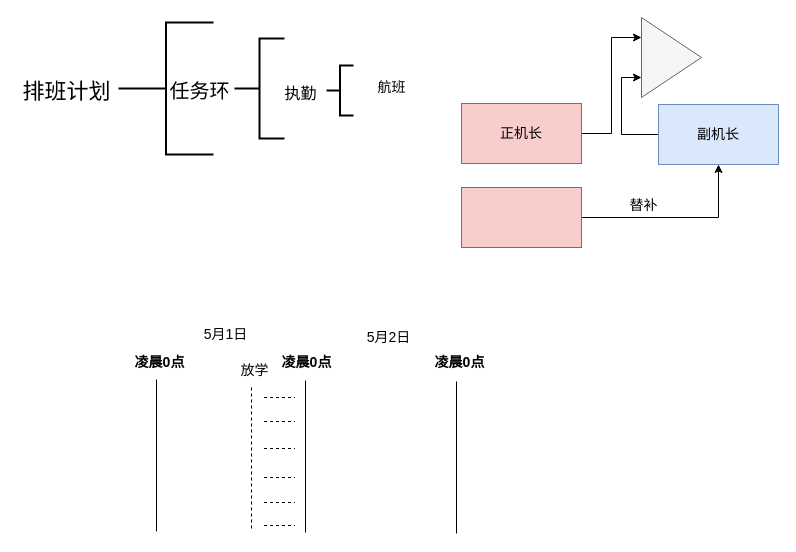
Some shapes in this 796 by 552 pixel diagram are drawn without their labels. Here are the shapes that lost their labels. From the top down, the box of each, then its label:
(640, 16, 702, 98): 飞机
(460, 186, 582, 248): 部分正机长
